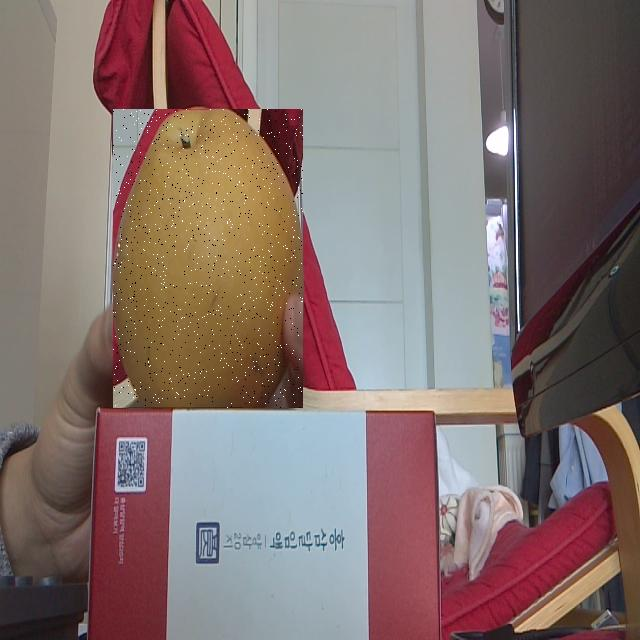pear: (113, 109, 303, 408)
